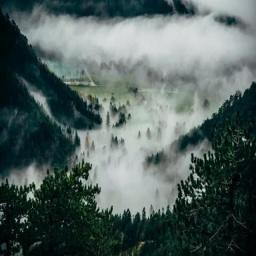Low smoke: (32, 0, 255, 87)
